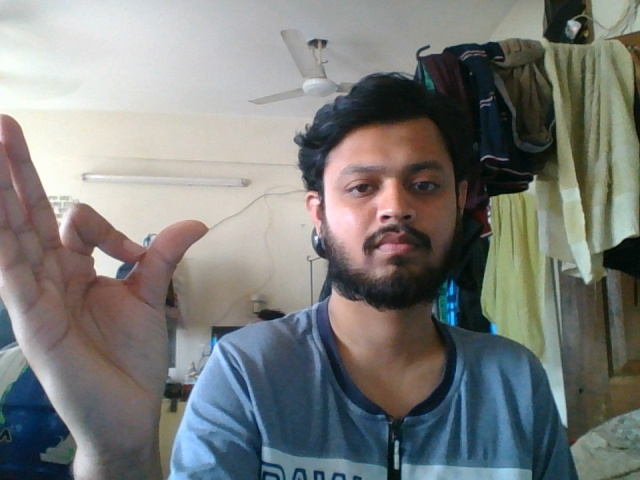uo: (1, 109, 219, 445)
